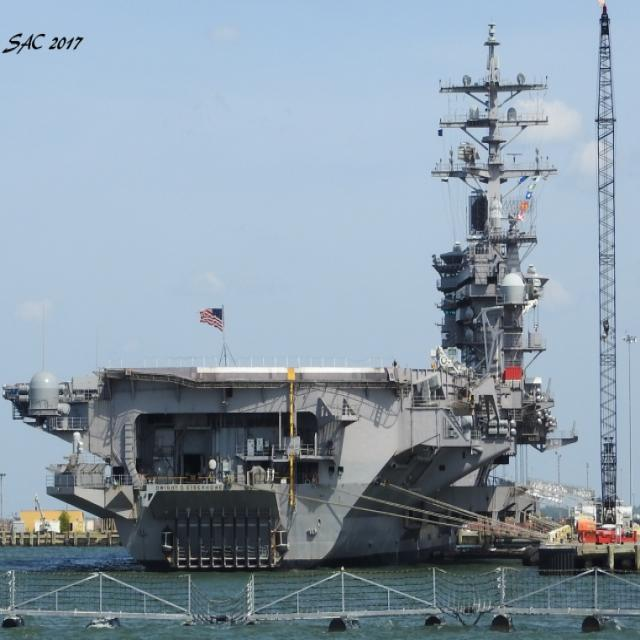Portanaves: (1, 21, 583, 576)
